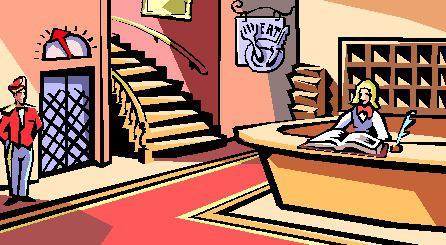person: (3, 75, 44, 205), (319, 77, 393, 143)
